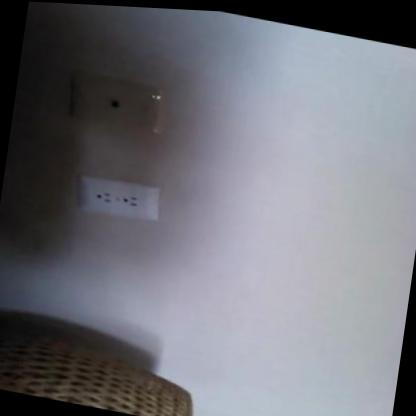OUTLET: (74, 172, 160, 222)
